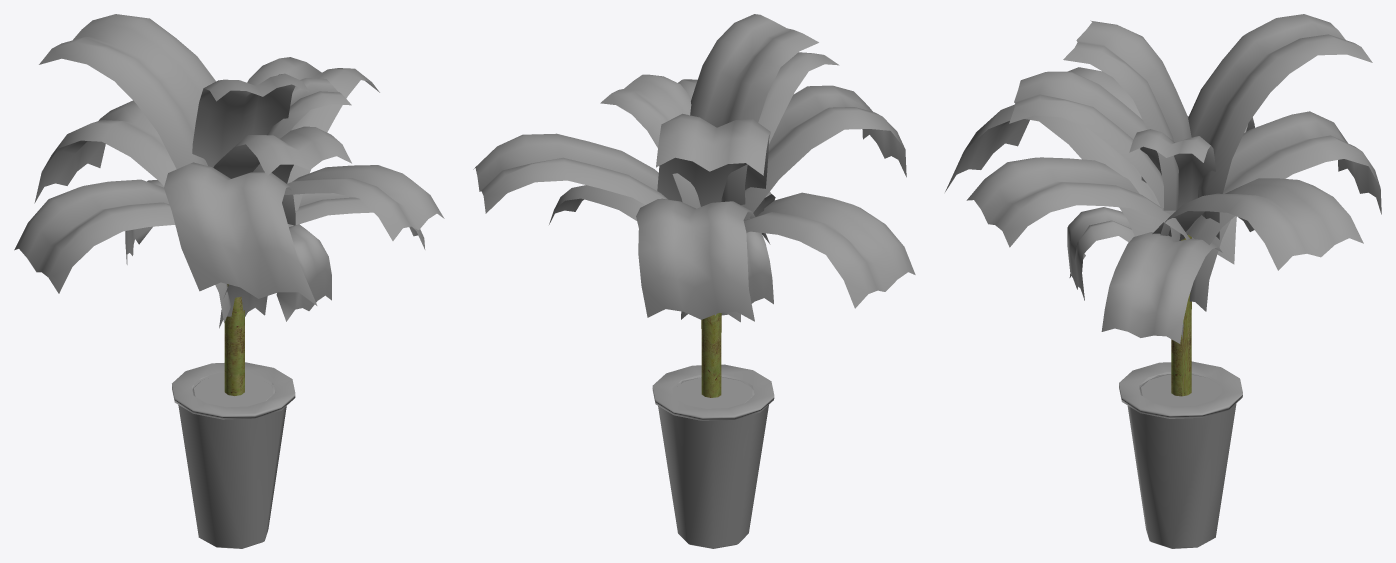
The model's file is House_palm_leaf_lod1.fbx.
3 views of the same model, side by side, from view 1: azimuth 30°, elevation 25°; view 2: azimuth 150°, elevation 25°; view 3: azimuth 270°, elevation 25° (orthographic).
Visible parts, largest first — view 1: House_palm_leaf_lod1; view 2: House_palm_leaf_lod1; view 3: House_palm_leaf_lod1.
Boxes of the visible parts, box(x1,y1,x2,y2) form: House_palm_leaf_lod1: box(14, 14, 444, 548); House_palm_leaf_lod1: box(473, 14, 915, 548); House_palm_leaf_lod1: box(945, 14, 1381, 548).
Size of the model in its own units: 117 by 142 by 114.
3 materials, 1 textured.
